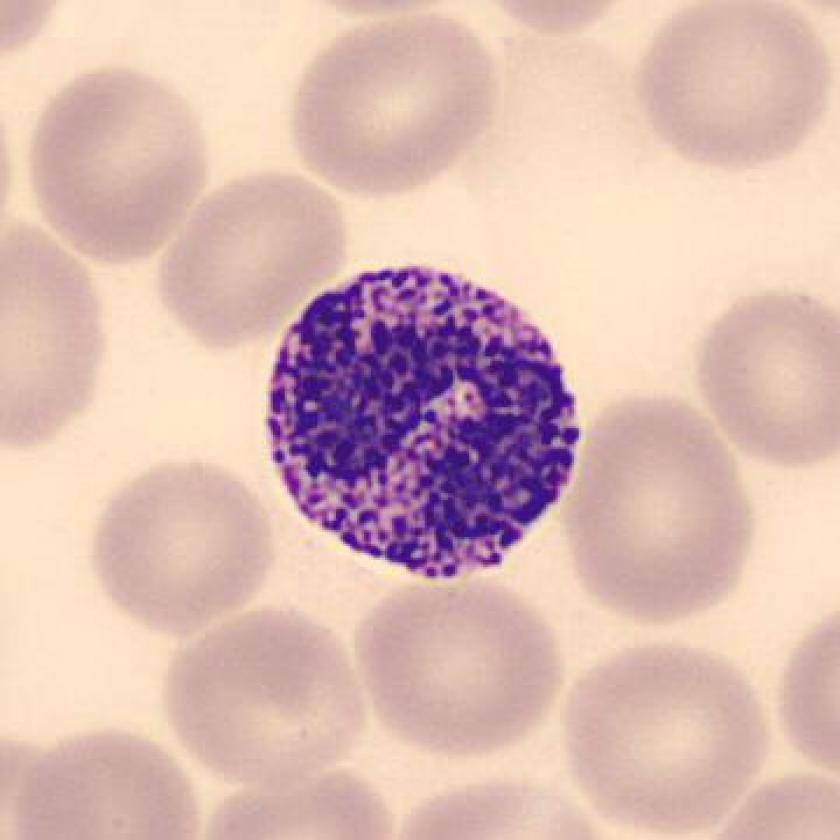basophil: (256, 265, 585, 582)
